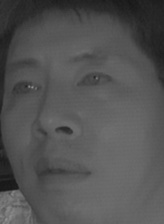eye: (74, 65, 114, 93), (8, 75, 44, 99)
mouth: (28, 153, 96, 191)
